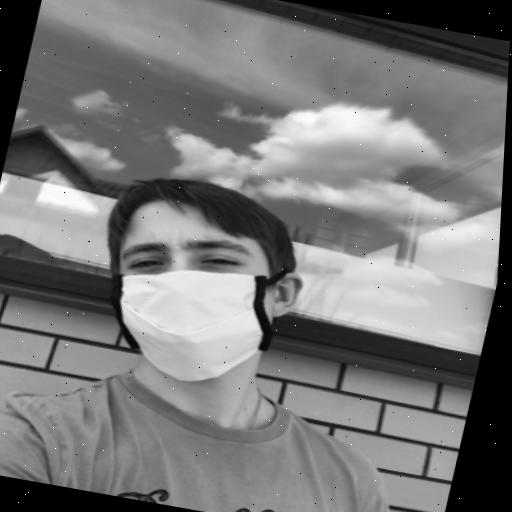mask: (89, 214, 289, 392)
